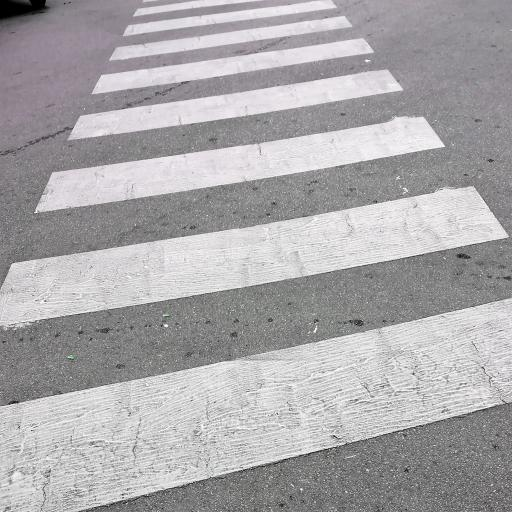crosswalk: (26, 64, 454, 221)
